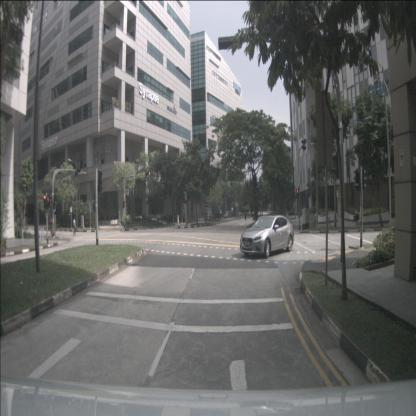human-pedestrian-adult: (354, 206, 359, 230), (73, 216, 76, 236), (50, 218, 53, 237), (237, 210, 240, 221), (244, 211, 246, 221)
vehicle-car: (240, 215, 295, 259), (204, 212, 215, 221), (224, 211, 233, 218)
vehicle-truck: (205, 201, 222, 219)
